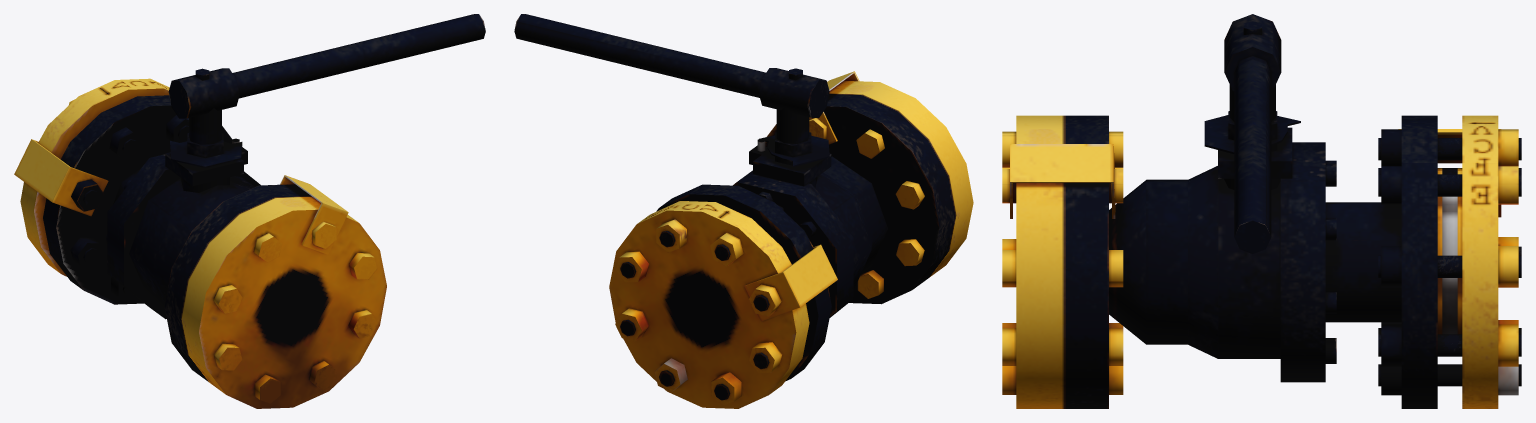
The model's file is ManualValve12S1IN.fbx.
3 views of the same model, side by side, from view 1: azimuth 30°, elevation 25°; view 2: azimuth 150°, elevation 25°; view 3: azimuth 270°, elevation 25° (orthographic). The views are drawn at different scales.
Parts seen in each view (by area): view 1: Body, Handle; view 2: Body, Handle; view 3: Body, Handle.
Part boxes in pixels (x1=…): Body: x1=14, y1=78, x2=386, y2=408; Handle: x1=168, y1=14, x2=485, y2=167; Body: x1=609, y1=71, x2=973, y2=408; Handle: x1=514, y1=14, x2=829, y2=166; Body: x1=1002, y1=115, x2=1521, y2=408; Handle: x1=1204, y1=14, x2=1300, y2=253.
Size of the model in its own units: 43.18 by 30.13 by 38.58.
1 material, 1 textured.
